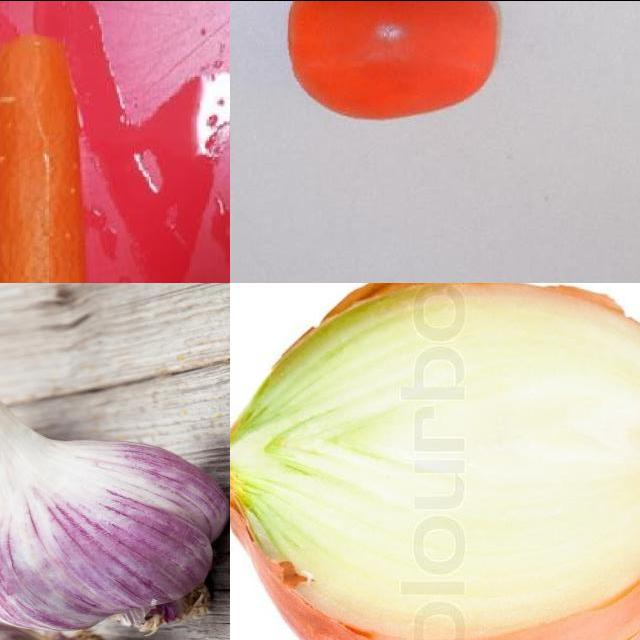carrot: (1, 24, 88, 283)
garlic: (1, 348, 231, 637)
onion: (231, 283, 640, 640)
tomato: (273, 1, 519, 141)
